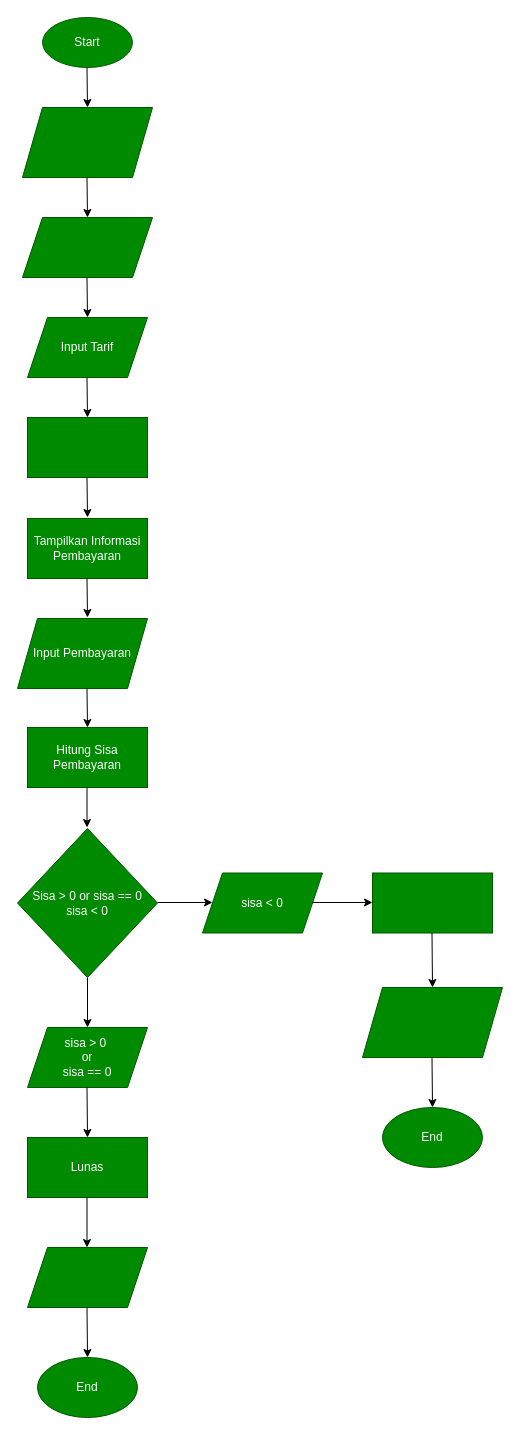
The diagram is 520 pixels wide and 1435 high, and some of its shapes have lost their labels. Each missing label, with the centre of its shape:
Belum Lunas: the point at 432,902
Hitung Total Biaya Per Minggu: the point at 87,447
Input Jumlah Pertemuan: the point at 87,247
input Nama Siswa: the point at 87,142
Tampilkan pembayaran kurang: the point at 432,1022
Tampilkan sisa: the point at 87,1277
